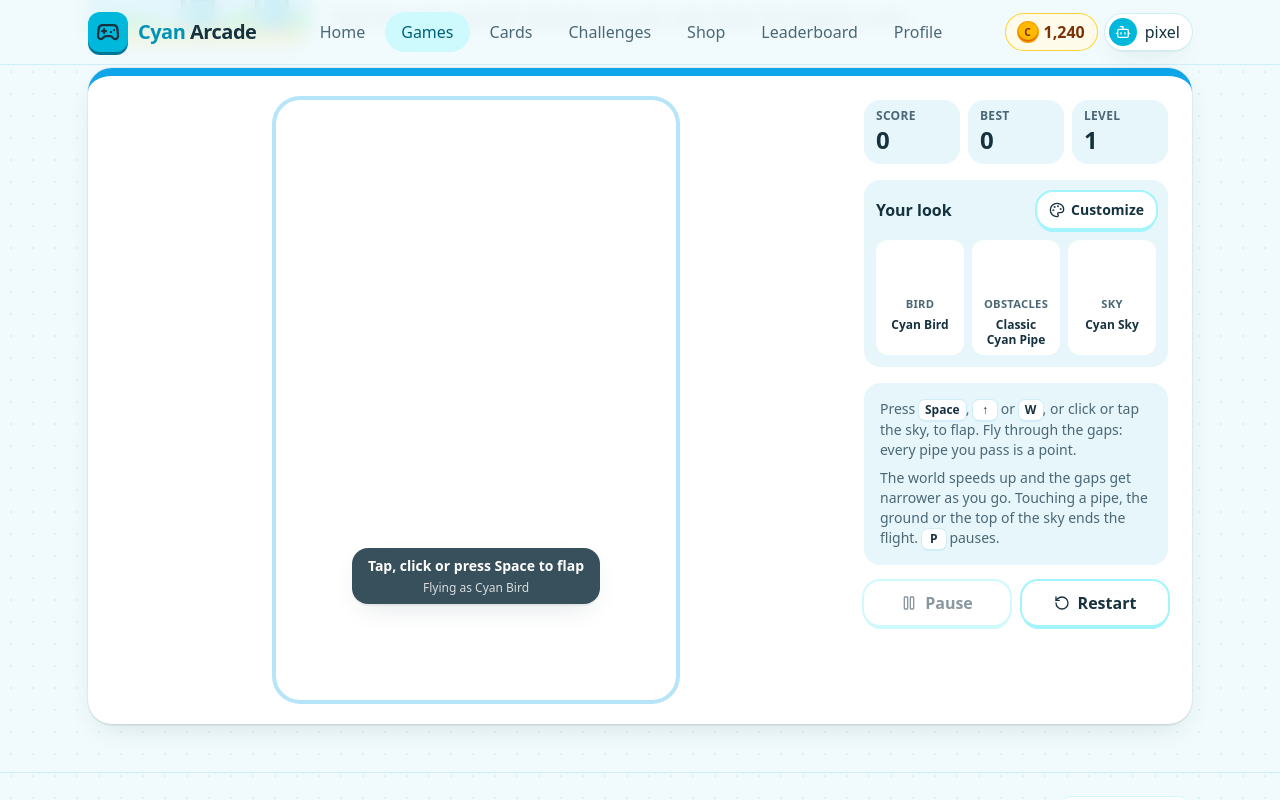
Test: Flappy Bird in the arcade › sends a flight through the platform, which saves it and links the leaderboard
(page scrolled)
Press the mouse on the button named "playfield" at (476, 400), box [276, 100, 676, 700]
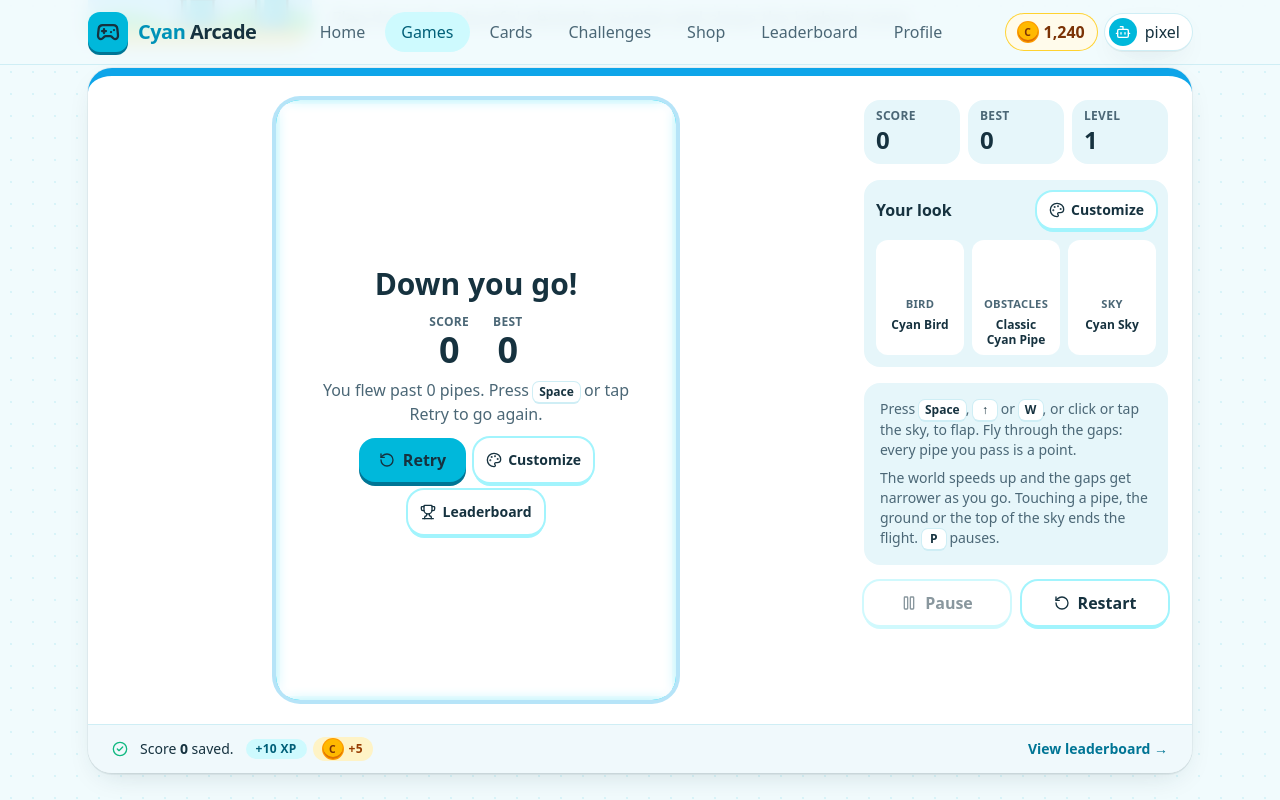
Expected: the text "Score 0 saved." is shown, [140, 739, 234, 759]
